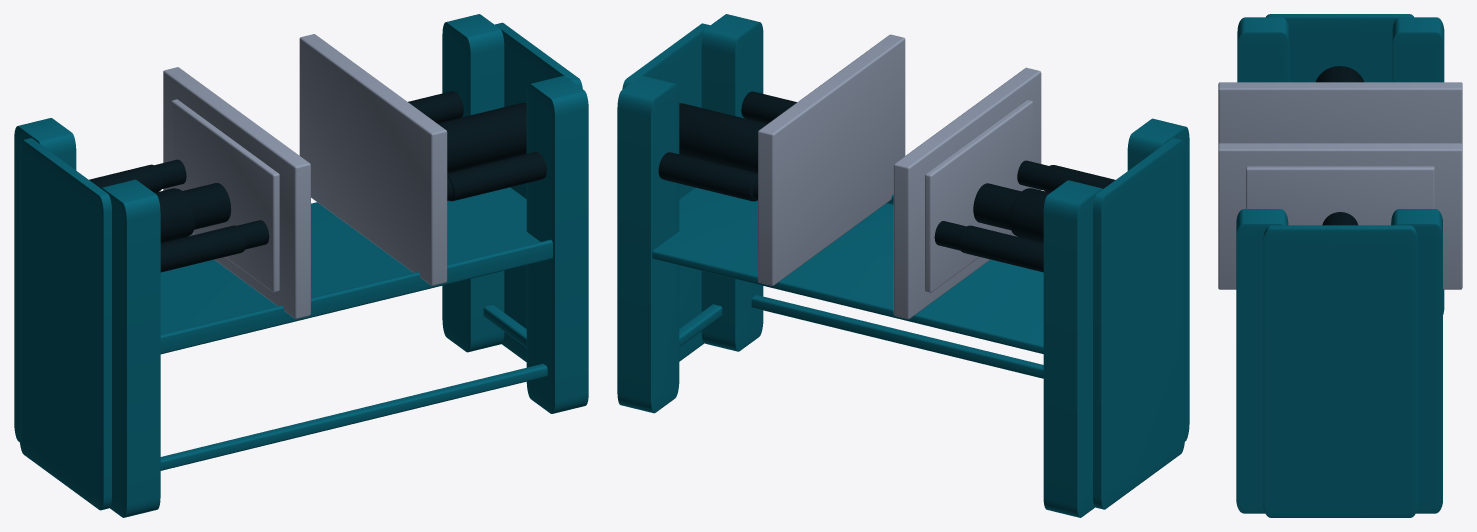
File: prasa.fbx
3 views of the same model, side by side, from view 1: azimuth 30°, elevation 25°; view 2: azimuth 150°, elevation 25°; view 3: azimuth 270°, elevation 25° (orthographic). The views are drawn at different scales.
Visible parts, largest first — view 1: e_p-noimp, e_l-noimp, e_stol2-noimp, e_l-mlot-noimp, e_p_mlot-noimp; view 2: e_p-noimp, e_l-noimp, e_stol2-noimp, e_l-mlot-noimp, e_p_mlot-noimp; view 3: e_l-noimp, e_l-mlot-noimp, e_p_mlot-noimp, e_p-noimp.
Part boxes in pixels (bbox=[...]): e_p-noimp: bbox=[14, 118, 246, 517]; e_l-noimp: bbox=[408, 14, 588, 413]; e_stol2-noimp: bbox=[160, 187, 552, 470]; e_l-mlot-noimp: bbox=[299, 34, 452, 285]; e_p_mlot-noimp: bbox=[154, 67, 310, 318]; e_p-noimp: bbox=[958, 118, 1189, 517]; e_l-noimp: bbox=[617, 14, 796, 413]; e_stol2-noimp: bbox=[652, 187, 1043, 378]; e_l-mlot-noimp: bbox=[753, 34, 905, 285]; e_p_mlot-noimp: bbox=[893, 67, 1048, 319]; e_l-noimp: bbox=[1236, 209, 1442, 517]; e_l-mlot-noimp: bbox=[1218, 143, 1462, 289]; e_p_mlot-noimp: bbox=[1218, 82, 1462, 144]; e_p-noimp: bbox=[1237, 14, 1444, 314].
Bounding box in the file's own units: 519 × 333 × 249.
